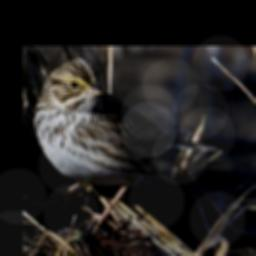Sparrow: (32, 56, 221, 233)
